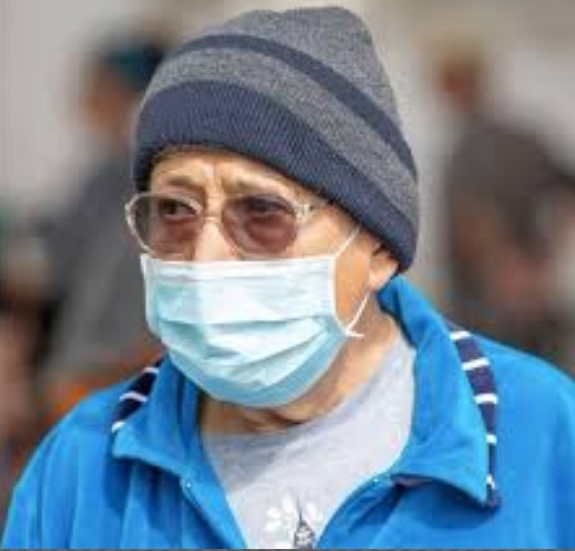face_with_mask: (119, 6, 430, 411)
